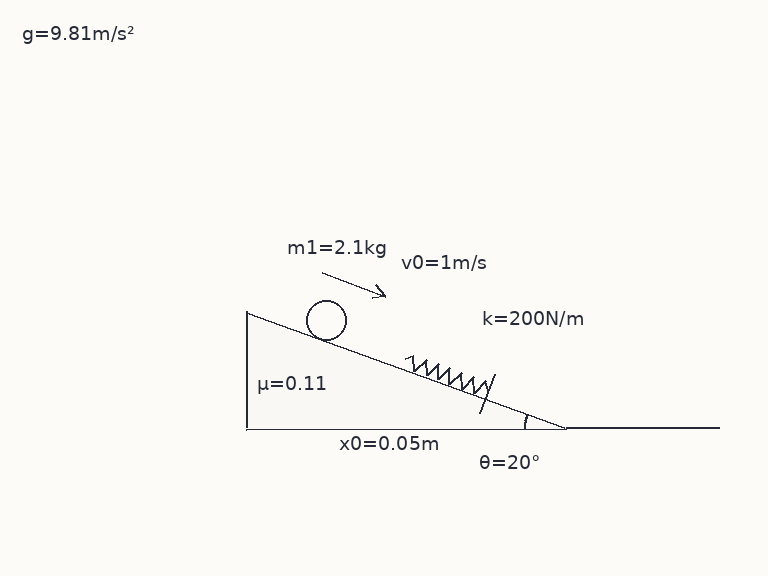ball: (304, 298, 348, 342)
ramp: (243, 310, 567, 430)
spring: (403, 354, 490, 395)
